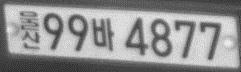4: (124, 17, 148, 55)
7: (173, 19, 197, 58), (200, 21, 221, 60)
8: (150, 17, 173, 58)
9: (42, 11, 64, 50), (67, 12, 89, 51)
바: (90, 16, 114, 51)
울산_V: (18, 9, 41, 50)
